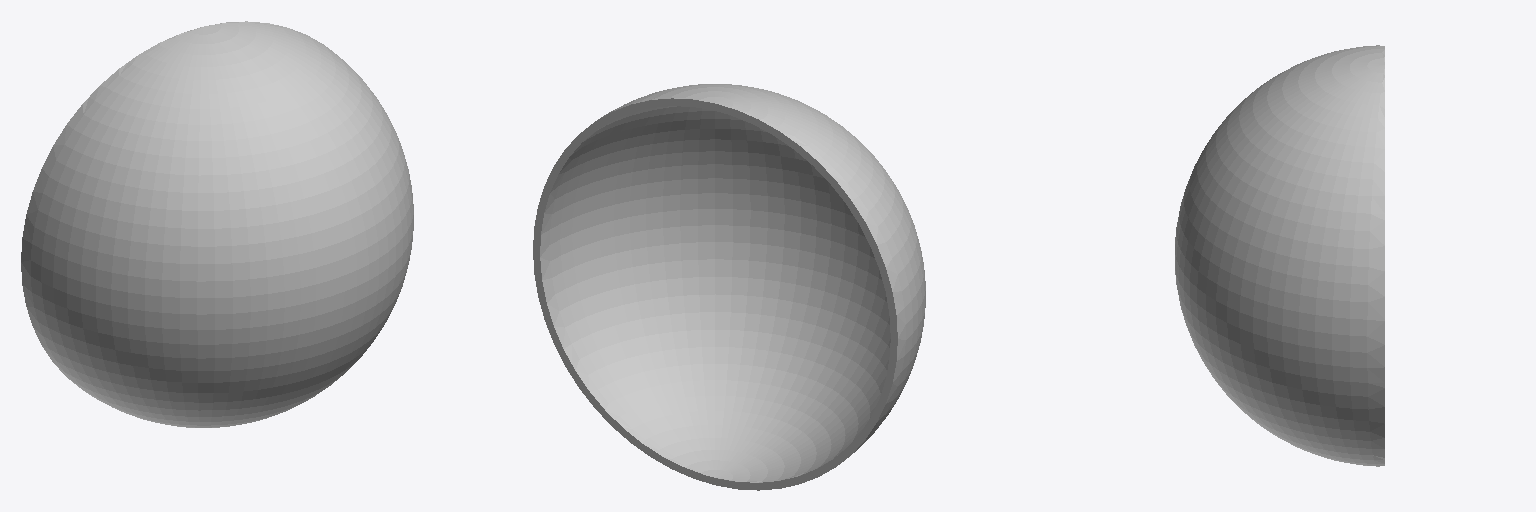
File: Anemometer cup 1.obj
3 renders of one model, left to right at view 1: azimuth 30°, elevation 25°; view 2: azimuth 150°, elevation 25°; view 3: azimuth 270°, elevation 25°, orthographic.
Parts seen in each view (by area): view 1: Root|anemomet_cup_and_arm_VISUALIZE_(Default)|Merged_Parts|Part_; view 2: Root|anemomet_cup_and_arm_VISUALIZE_(Default)|Merged_Parts|Part_; view 3: Root|anemomet_cup_and_arm_VISUALIZE_(Default)|Merged_Parts|Part_.
Part boxes in pixels (bbox=[...]): Root|anemomet_cup_and_arm_VISUALIZE_(Default)|Merged_Parts|Part_: bbox=[21, 21, 413, 427]; Root|anemomet_cup_and_arm_VISUALIZE_(Default)|Merged_Parts|Part_: bbox=[533, 84, 925, 490]; Root|anemomet_cup_and_arm_VISUALIZE_(Default)|Merged_Parts|Part_: bbox=[1175, 45, 1384, 466].
Size of the model in its own units: 0.051 by 0.051 by 0.0255.